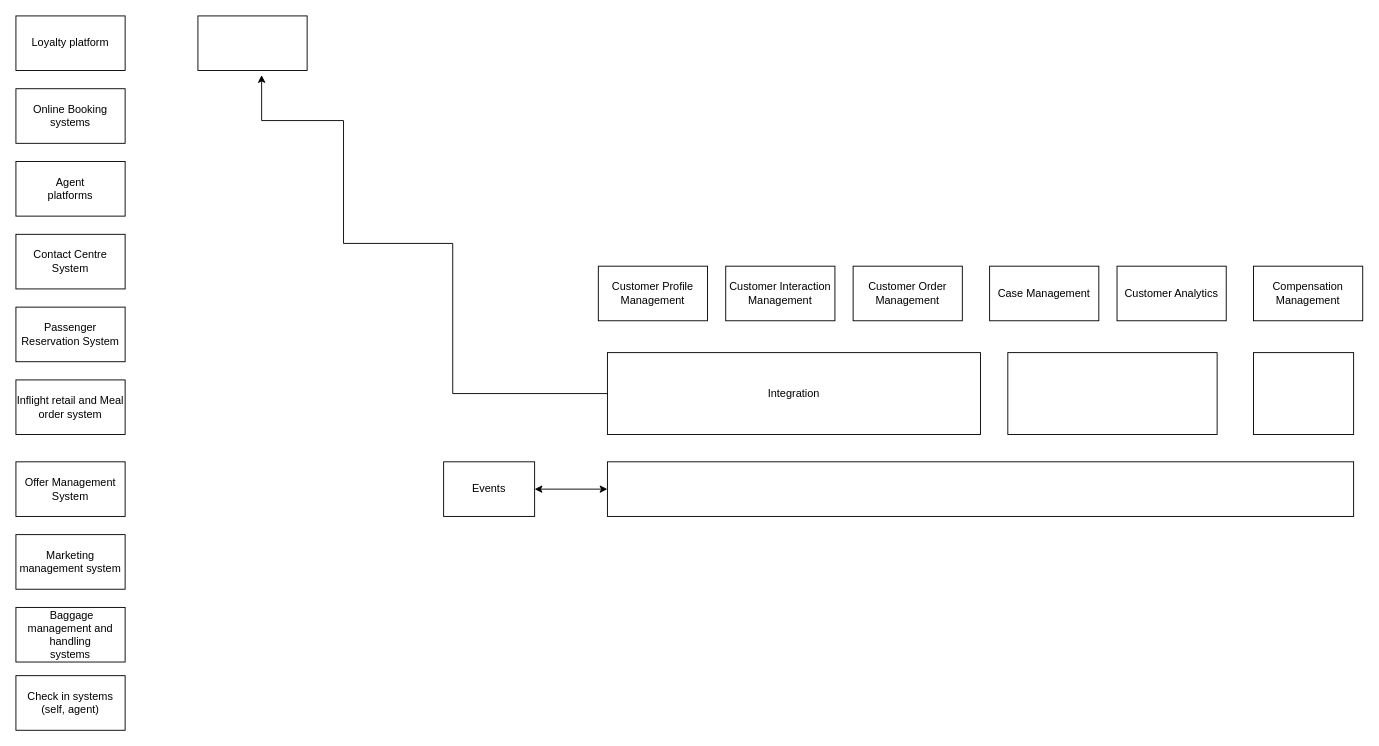
Some shapes in this 1379 by 746 pixel diagram are drawn without their labels. The centre of each missing label's shape, as x and y in pixels:
"Anaytics" goes at pixel 1112 393.
"Customer 360" goes at pixel 980 488.
"Knowledge base for support agents to" goes at pixel 252 43.
"Machine learning" goes at pixel 1303 393.
